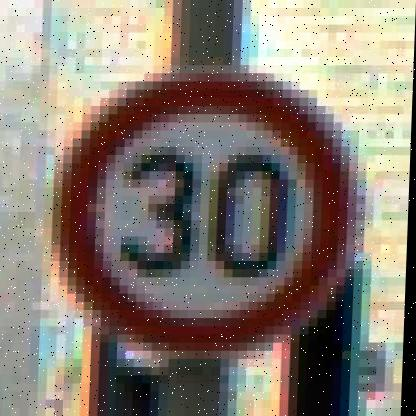Speed Limit -30-: (44, 68, 368, 360)
